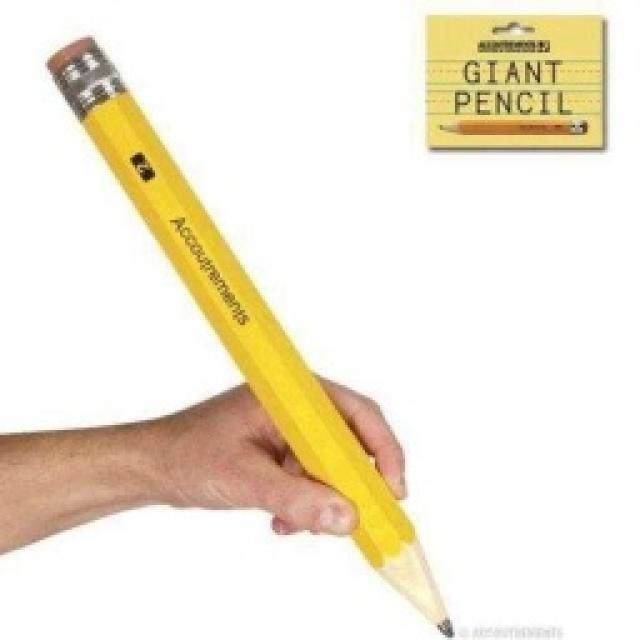pencil: (420, 10, 608, 152)
